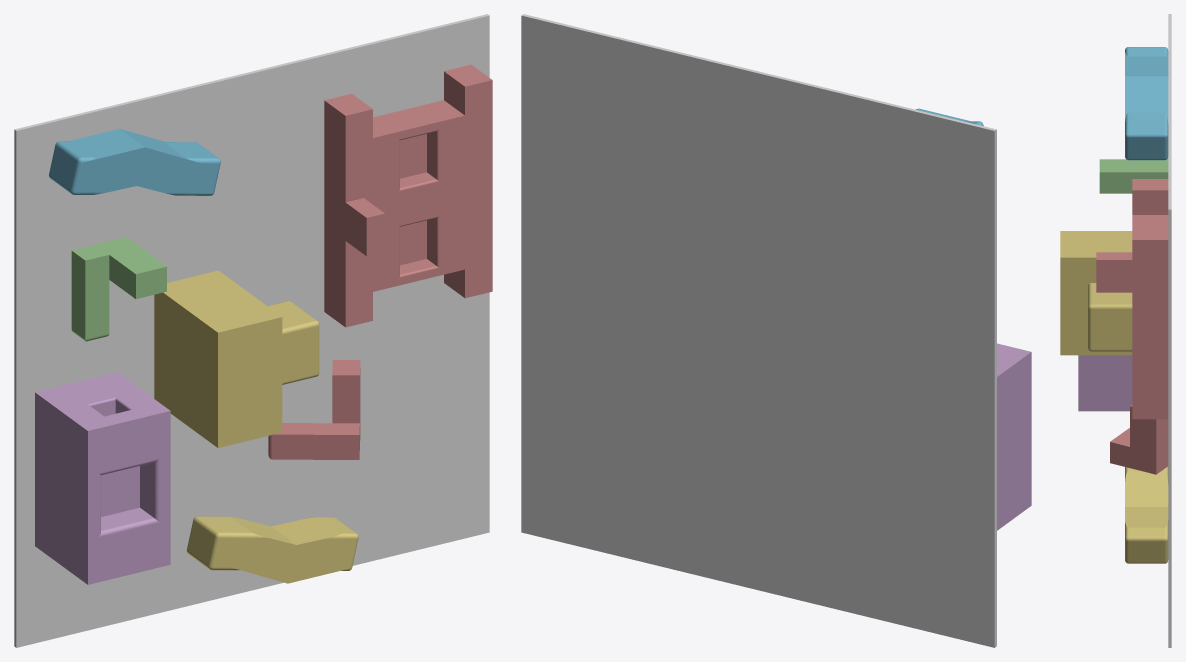
The model's file is pickup_layout.glb.
3 views of the same model, side by side, from view 1: azimuth 30°, elevation 25°; view 2: azimuth 150°, elevation 25°; view 3: azimuth 270°, elevation 25° (orthographic). The views are drawn at different scales.
Visible parts, largest first — view 1: world, 0.obj, 3.obj, 6.obj, 1.obj, 2.obj, 4.obj, 5.obj; view 2: world, 3.obj; view 3: 0.obj, 6.obj, 2.obj, 1.obj, 3.obj, 5.obj, world, 4.obj.
Boxes of the visible parts, x1,y1,x2,y2 form: world: (14, 14, 489, 647); 0.obj: (324, 64, 492, 327); 3.obj: (35, 372, 170, 584); 6.obj: (154, 270, 319, 447); 1.obj: (186, 516, 358, 583); 2.obj: (49, 128, 220, 195); 4.obj: (71, 237, 166, 341); 5.obj: (268, 360, 360, 459); world: (521, 14, 996, 647); 3.obj: (997, 343, 1031, 530); 0.obj: (1096, 179, 1168, 419); 6.obj: (1060, 231, 1132, 355); 2.obj: (1125, 47, 1168, 160); 1.obj: (1125, 466, 1168, 563); 3.obj: (1078, 355, 1132, 411); 5.obj: (1110, 405, 1168, 474); world: (1168, 14, 1171, 647); 4.obj: (1099, 157, 1168, 193).
Size of the model in its own units: 25.75 by 26.88 by 6.2.
